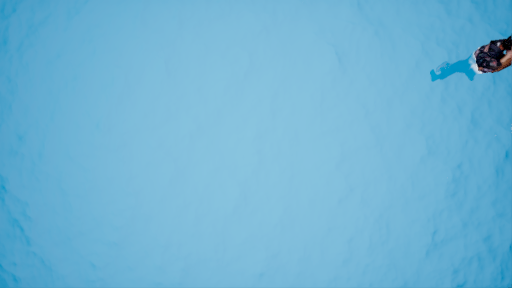person: (428, 34, 512, 84)
